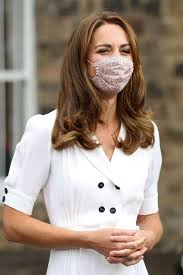mask: (92, 56, 134, 93)
